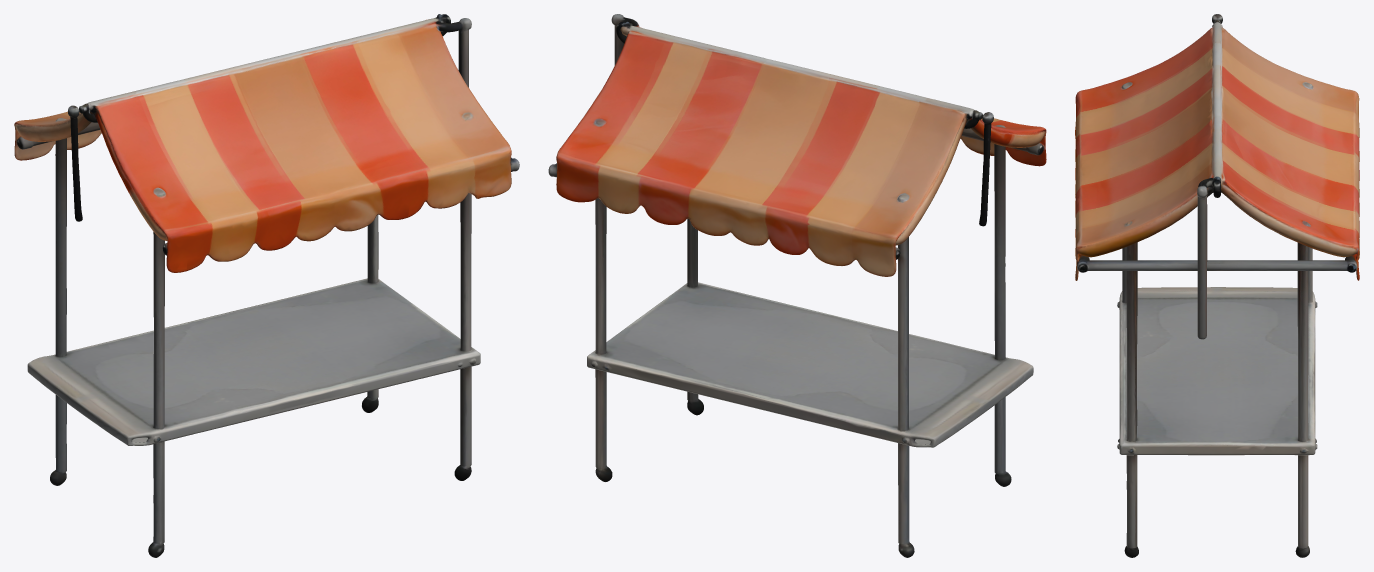
Rendered from prop-market-awning.glb.
3 renders of one model, left to right at view 1: azimuth 30°, elevation 25°; view 2: azimuth 150°, elevation 25°; view 3: azimuth 270°, elevation 25°, orthographic. The views are drawn at different scales.
Parts seen in each view (by area): view 1: tripo_node_885fbb4e-c46c-4d19-82ce-608082626eed; view 2: tripo_node_885fbb4e-c46c-4d19-82ce-608082626eed; view 3: tripo_node_885fbb4e-c46c-4d19-82ce-608082626eed.
Part boxes in pixels (x1,y1,x2,y2): tripo_node_885fbb4e-c46c-4d19-82ce-608082626eed: [14, 14, 519, 557]; tripo_node_885fbb4e-c46c-4d19-82ce-608082626eed: [548, 14, 1046, 557]; tripo_node_885fbb4e-c46c-4d19-82ce-608082626eed: [1075, 14, 1359, 557].
Size of the model in its own units: 2.42 by 2.5 by 1.65.
Materials: 1 (1 with a texture image).
